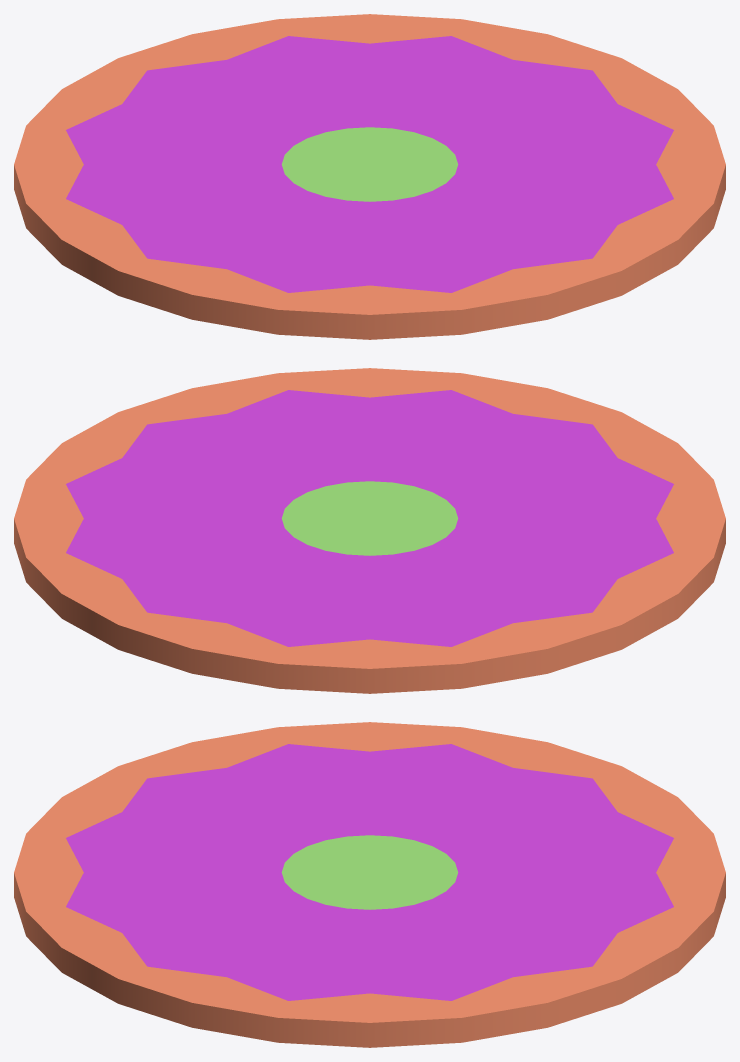
The model's file is 2_carpet.fbx.
The picture shows the model from 3 angles, top to bottom: view 1: azimuth 30°, elevation 25°; view 2: azimuth 150°, elevation 25°; view 3: azimuth 270°, elevation 25°; orthographic projection.
Parts seen in each view (by area): view 1: 2 carpet; view 2: 2 carpet; view 3: 2 carpet.
Part boxes in pixels (x1,y1,x2,y2): 2 carpet: (14, 14, 725, 339); 2 carpet: (14, 368, 725, 693); 2 carpet: (14, 722, 725, 1047).
Size of the model in its own units: 116 by 4.49 by 116.
